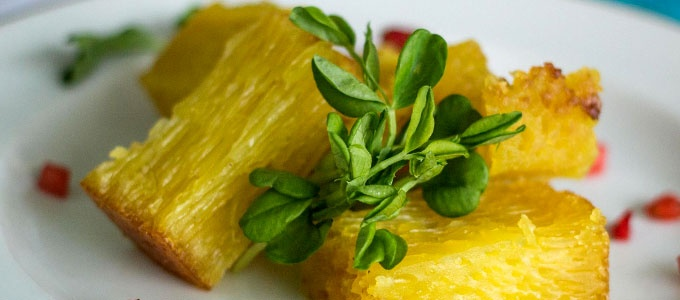bika_ambon: (95, 10, 291, 271)
